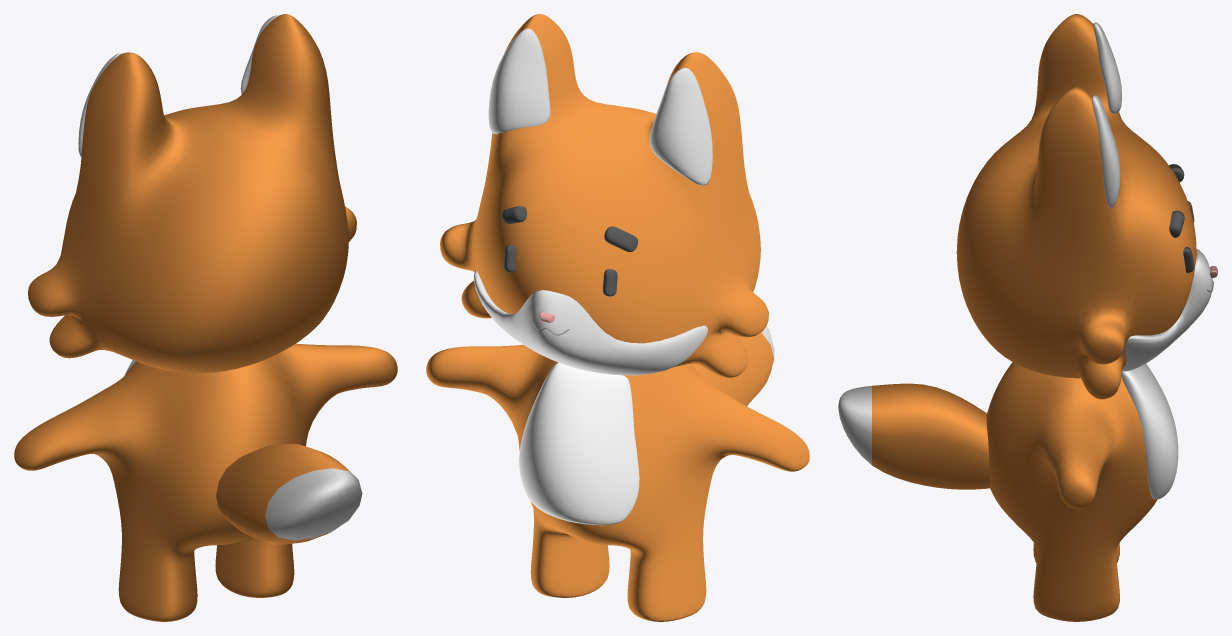
The model's file is Fox.fbx.
The picture shows the model from 3 angles, left to right: view 1: azimuth 30°, elevation 25°; view 2: azimuth 150°, elevation 25°; view 3: azimuth 270°, elevation 25°; orthographic projection. The views are drawn at different scales.
Visible parts, largest first — view 1: Cube.001; view 2: Cube.001; view 3: Cube.001.
Part boxes in pixels (x1,y1,x2,y2): Cube.001: (14, 14, 397, 621); Cube.001: (426, 14, 809, 621); Cube.001: (838, 14, 1217, 621).
Bounding box in the file's own units: 280 × 395 × 254.
